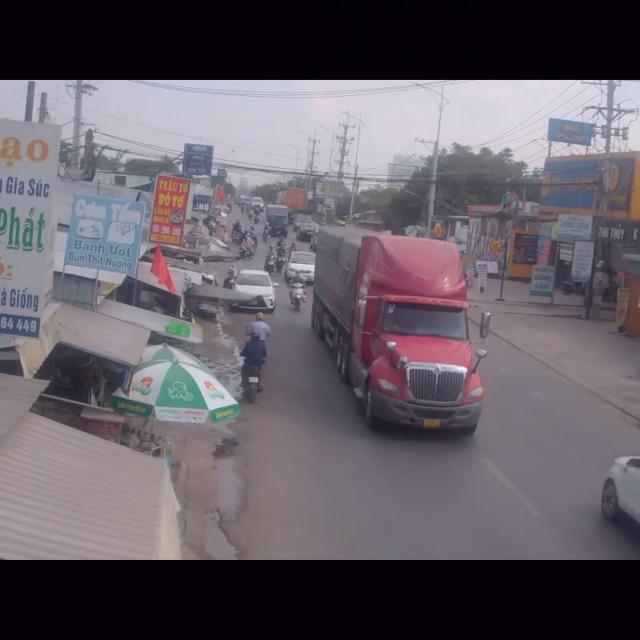car: (602, 445, 640, 545), (237, 266, 274, 310), (288, 252, 314, 282)
motorbike: (242, 333, 265, 399), (289, 266, 304, 310)
truck: (311, 225, 482, 432)
